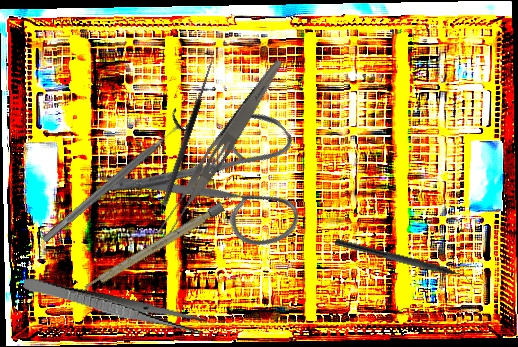Chopper: (332, 238, 478, 290)
Dressing Forceps: (154, 53, 287, 241), (21, 275, 207, 337)
Fixation Ring: (34, 107, 194, 252)
Hook Surgical: (154, 51, 217, 207)
Iris Scissors: (87, 62, 340, 313)
Scalpel Handle: (80, 201, 226, 295)
